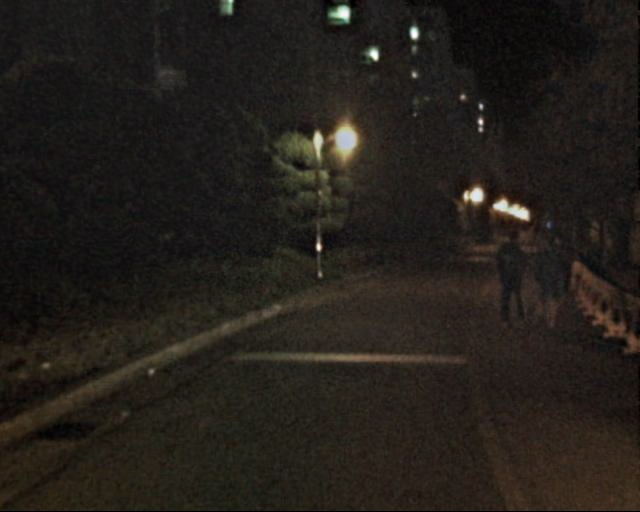person: (489, 230, 530, 330), (524, 237, 562, 330)
